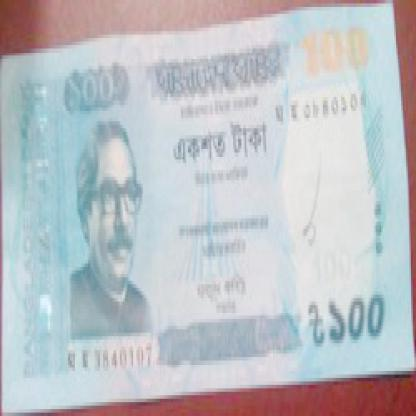one hundred taka: (326, 277, 394, 357), (300, 18, 372, 84), (48, 70, 135, 114)
